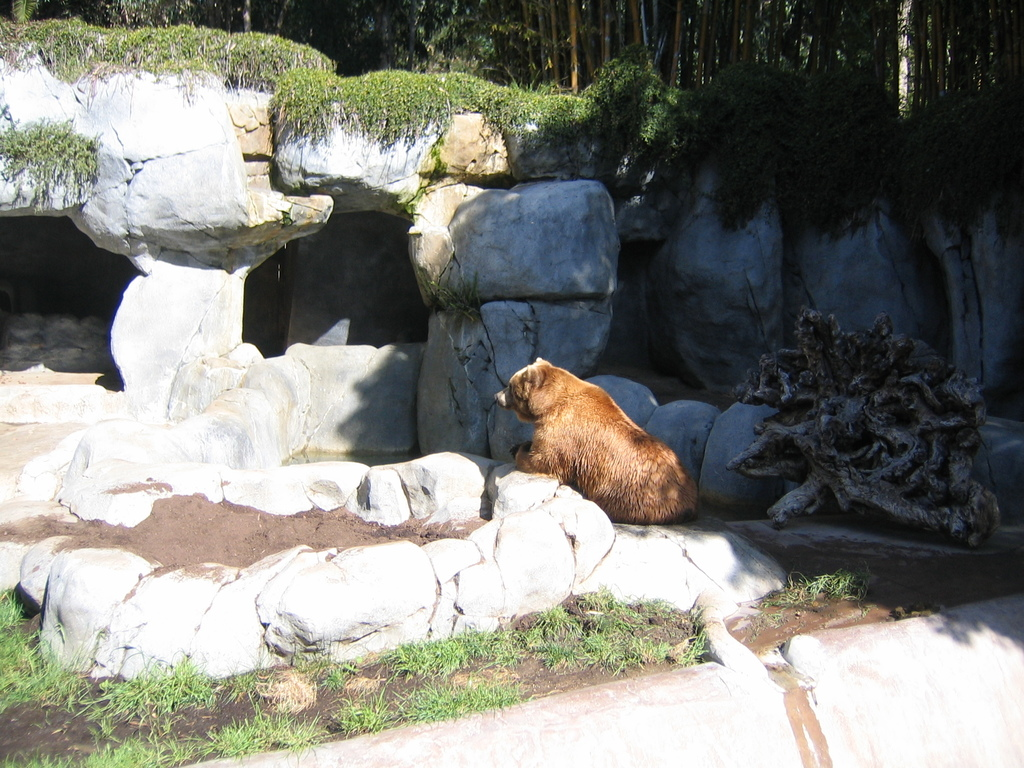Tree: (229, 0, 1020, 126)
